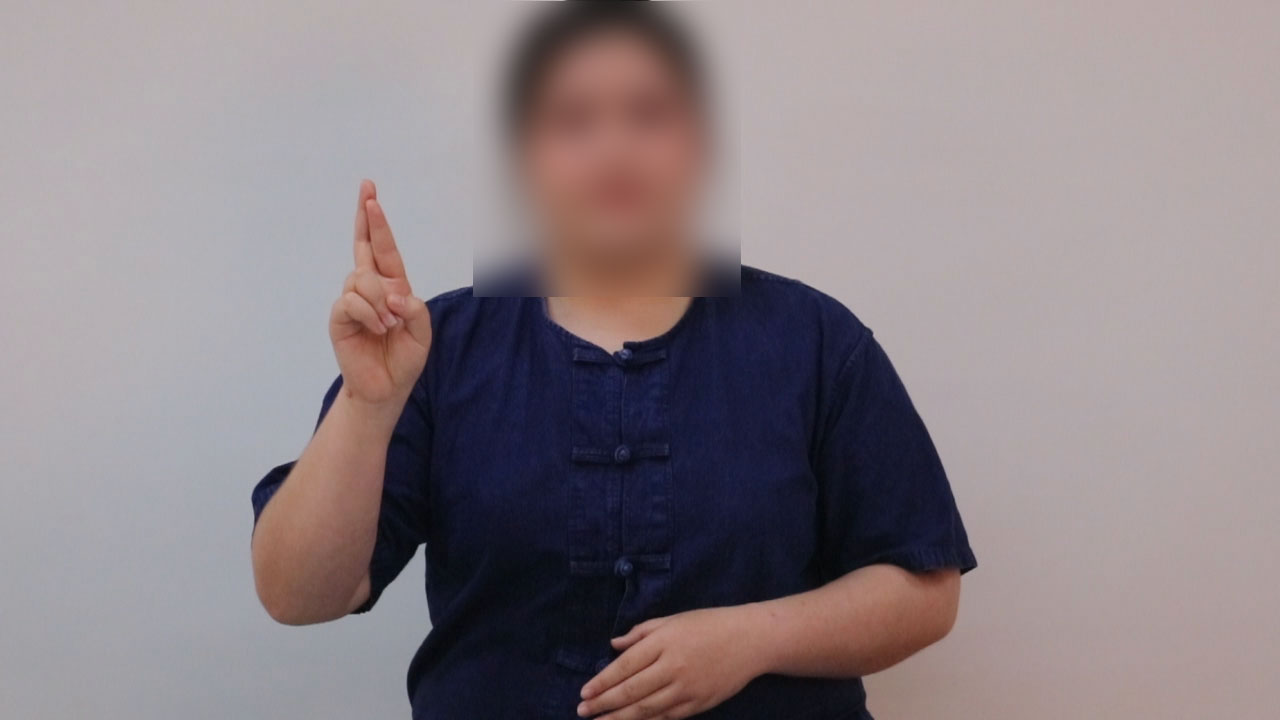rao: (309, 172, 442, 429)
